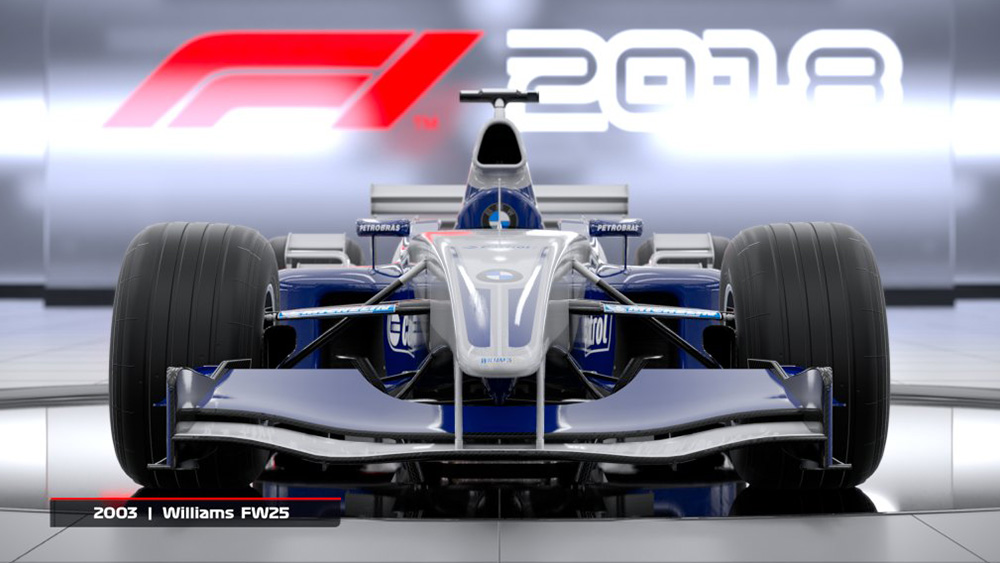f1_car: (93, 79, 900, 527)
